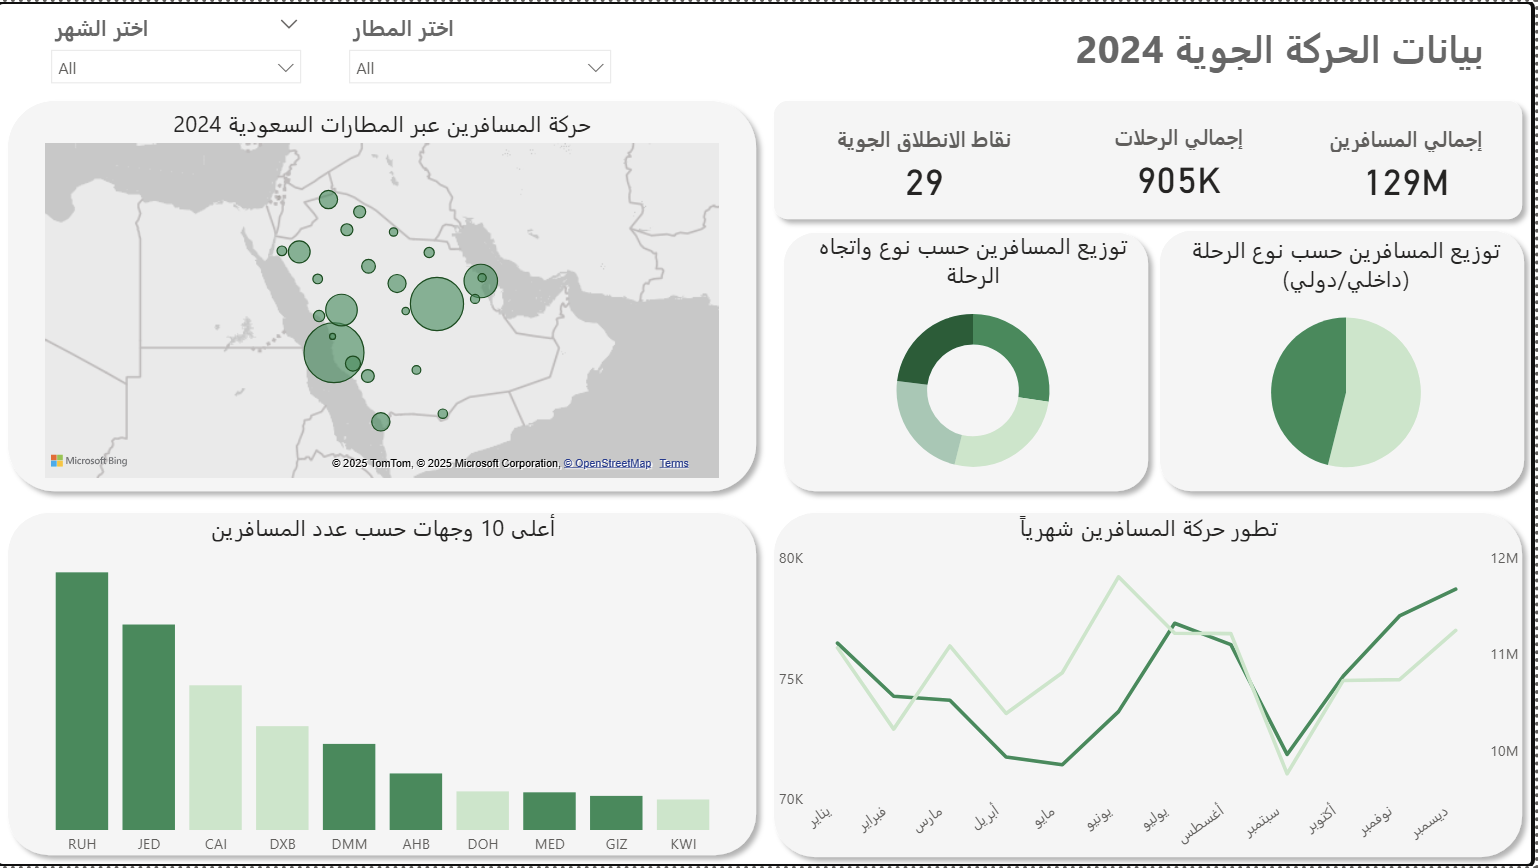

This screenshot's page, from the dashboard's own definition file:
{"tool":"powerbi","page":{"name":"3","canvas":[1280,720],"ordinal":2},"visuals":[{"type":"group","id":"g1","title":"Group 2","box":[0,73.3,1281.7,648.3],"z":0},{"type":"cardVisual","fields":{"Data":["Sum(بيانات الحركة الجوية 2024.عدد الرحلات)"]},"box":[899.2,83.3,173.7,96.7],"z":1000,"group":"g2"},{"type":"shape","box":[960,181.6,321.7,235],"z":1000,"group":"g1"},{"type":"group","id":"g2","title":"Group 1","box":[646.7,83.3,626.7,96.7],"z":2000},{"type":"cardVisual","fields":{"Data":["بيانات الحركة الجوية 2024.إجمالي المسافرين"]},"box":[1074.6,85,198.7,95],"z":2000,"group":"g2"},{"type":"shape","box":[638.3,73.3,641.7,116.7],"z":3000,"group":"g1"},{"type":"cardVisual","fields":{"Data":["بيانات الحركة الجوية 2024.متوسط المسافرين لكل رحلة"]},"box":[646.7,85,252.5,95],"z":3000,"group":"g2"},{"type":"shape","box":[0,73.3,641.7,343.3],"z":4000,"group":"g1"},{"type":"shape","box":[0,416.6,641.7,303.3],"z":4500,"group":"g1"},{"type":"shape","box":[638.3,416.6,641.7,305],"z":5000,"group":"g1"},{"type":"lineChart","title":"تطور حركة المسافرين شهرياً","fields":{"Category":["بيانات الحركة الجوية 2024.الشهر"],"Y":["Sum(بيانات الحركة الجوية 2024.عدد المسافرين)"],"Y2":["Sum(بيانات الحركة الجوية 2024.عدد الرحلات)"]},"box":[646.7,425,626.7,296.7],"z":5000},{"type":"shape","box":[646.7,183.3,321.7,233.3],"z":5500,"group":"g1"},{"type":"pieChart","title":"توزيع المسافرين حسب نوع الرحلة (داخلي/دولي)","fields":{"Category":["بيانات الحركة الجوية 2024.نوع الرحلة"],"Y":["بيانات الحركة الجوية 2024.إجمالي المسافرين"]},"box":[975,193.3,298.3,215],"z":6000},{"type":"donutChart","title":"توزيع المسافرين حسب نوع واتجاه الرحلة","fields":{"Category":["بيانات الحركة الجوية 2024.نوع واتجاه الرحلة"],"Y":["بيانات الحركة الجوية 2024.إجمالي المسافرين"]},"box":[665,190,296.7,218.3],"z":7000},{"type":"columnChart","title":"أعلى 10 وجهات حسب عدد المسافرين","fields":{"Category":["بيانات الحركة الجوية 2024.الوجهة"],"Y":["بيانات الحركة الجوية 2024.إجمالي المسافرين"],"Series":["بيانات الحركة الجوية 2024.نوع الرحلة"]},"box":[21.7,425,600,295],"z":8000},{"type":"map","title":"حركة المسافرين عبر المطارات السعودية 2024","fields":{"Size":["بيانات الحركة الجوية 2024.إجمالي المسافرين"],"Y":["بيانات الحركة الجوية 2024.Latitude"],"X":["بيانات الحركة الجوية 2024.Longitude"]},"box":[35,88.3,571.7,313.3],"z":9000},{"type":"slicer","title":"توزيع المسافرين حسب نوع واتجاه الرحلة","fields":{"Values":["بيانات الحركة الجوية 2024.الشهر"]},"box":[35,3.3,228.3,70],"z":10000},{"type":"slicer","title":"توزيع المسافرين حسب نوع واتجاه الرحلة","fields":{"Values":["بيانات الحركة الجوية 2024.المطار"]},"box":[283.3,3.3,238.3,70],"z":11000},{"type":"textbox","box":[858.3,11.7,421.7,53.3],"z":11500}]}

Visuals, with their boxes in screenshot pixels (x1, y1, x2, y2), scaled from the page's 1280x720 canvas onto the 1538x868 screenshot:
"Group 2" group: left=0, top=88, right=1537, bottom=867
cardVisual - Sum(بيانات الحركة الجوية 2024.عدد الرحلات): left=1080, top=100, right=1289, bottom=217
shape: left=1154, top=219, right=1537, bottom=502
"Group 1" group: left=777, top=100, right=1530, bottom=217
cardVisual - بيانات الحركة الجوية 2024.إجمالي المسافرين: left=1291, top=102, right=1530, bottom=217
shape: left=767, top=88, right=1537, bottom=229
cardVisual - بيانات الحركة الجوية 2024.متوسط المسافرين لكل رحلة: left=777, top=102, right=1080, bottom=217
shape: left=0, top=88, right=771, bottom=502
shape: left=0, top=502, right=771, bottom=867
shape: left=767, top=502, right=1537, bottom=867
"تطور حركة المسافرين شهرياً" lineChart: left=777, top=512, right=1530, bottom=867
shape: left=777, top=221, right=1164, bottom=502
"توزيع المسافرين حسب نوع الرحلة (داخلي/دولي)" pieChart: left=1172, top=233, right=1530, bottom=492
"توزيع المسافرين حسب نوع واتجاه الرحلة" donutChart: left=799, top=229, right=1156, bottom=492
"أعلى 10 وجهات حسب عدد المسافرين" columnChart: left=26, top=512, right=747, bottom=867
"حركة المسافرين عبر المطارات السعودية 2024" map: left=42, top=106, right=729, bottom=484
"توزيع المسافرين حسب نوع واتجاه الرحلة" slicer: left=42, top=4, right=316, bottom=88
"توزيع المسافرين حسب نوع واتجاه الرحلة" slicer: left=340, top=4, right=627, bottom=88
textbox: left=1031, top=14, right=1537, bottom=78
